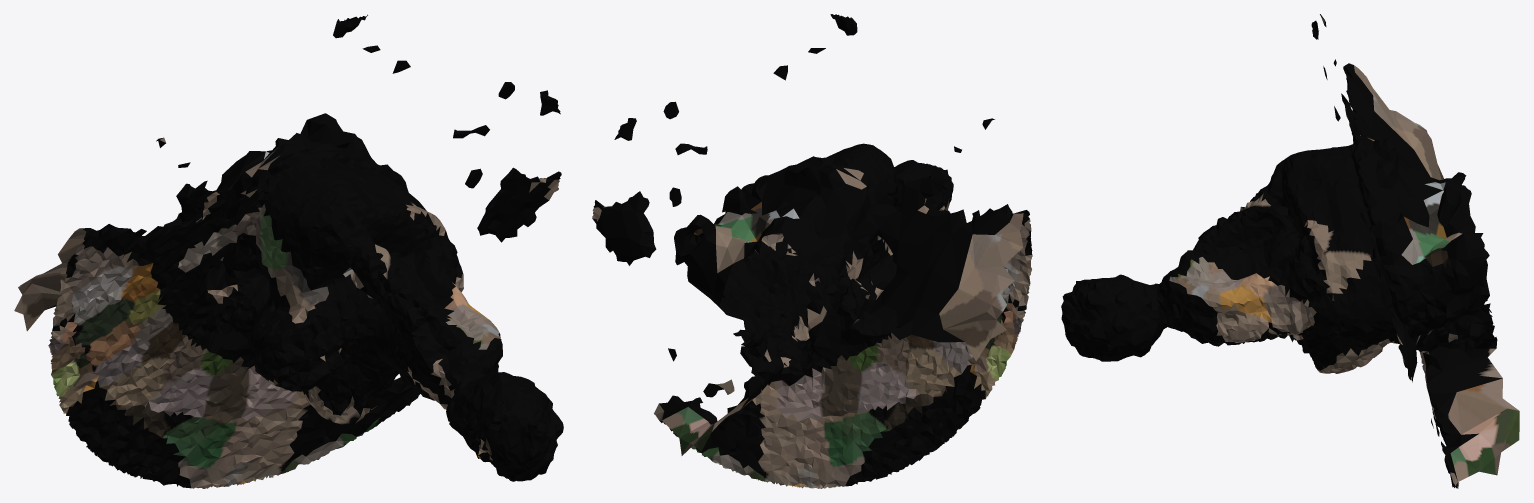
Rendered from Little-Prince.obj.
3 renders of one model, left to right at view 1: azimuth 30°, elevation 25°; view 2: azimuth 150°, elevation 25°; view 3: azimuth 270°, elevation 25°, orthographic. The views are drawn at different scales.
Visible parts, largest first — view 1: texturedMesh; view 2: texturedMesh; view 3: texturedMesh.
Part boxes in pixels (x1=…): texturedMesh: x1=14, y1=14, x2=563, y2=488; texturedMesh: x1=592, y1=14, x2=1032, y2=488; texturedMesh: x1=1061, y1=14, x2=1519, y2=488.
Bounding box in the file's own units: 2.95 × 2.78 × 2.63.
